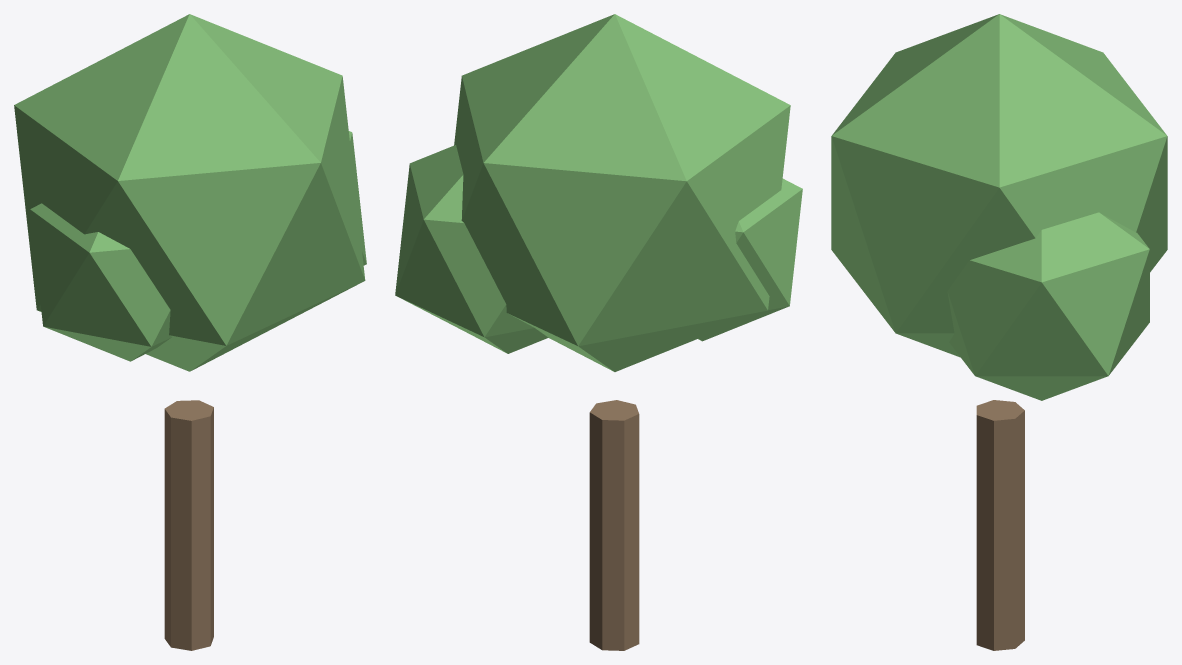
Rendered from tree.glb.
3 renders of one model, left to right at view 1: azimuth 30°, elevation 25°; view 2: azimuth 150°, elevation 25°; view 3: azimuth 270°, elevation 25°, orthographic.
Parts seen in each view (by area): view 1: Icosphere, Icosphere.002, Trunk, Icosphere.001; view 2: Icosphere, Icosphere.001, Trunk, Icosphere.002; view 3: Icosphere, Icosphere.001, Trunk.
Boxes of the visible parts, x1,y1,x2,y2 form: Icosphere: (14, 14, 365, 371); Icosphere.002: (30, 203, 171, 361); Trunk: (164, 400, 213, 650); Icosphere.001: (348, 131, 366, 265); Icosphere: (454, 14, 790, 371); Icosphere.001: (395, 145, 548, 353); Trunk: (589, 400, 639, 650); Icosphere.002: (698, 178, 802, 341); Icosphere: (831, 14, 1167, 357); Icosphere.001: (947, 212, 1149, 400); Trunk: (976, 400, 1024, 650).
Size of the model in its own units: 2.82 by 4.9 by 2.38.
